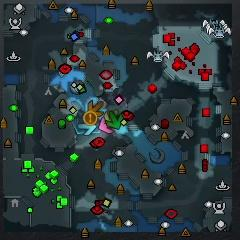x1: (99, 117, 112, 134)
x2: (103, 110, 119, 120)
x3: (78, 122, 96, 135)
x4: (105, 111, 123, 129)
x5: (88, 99, 103, 116)
